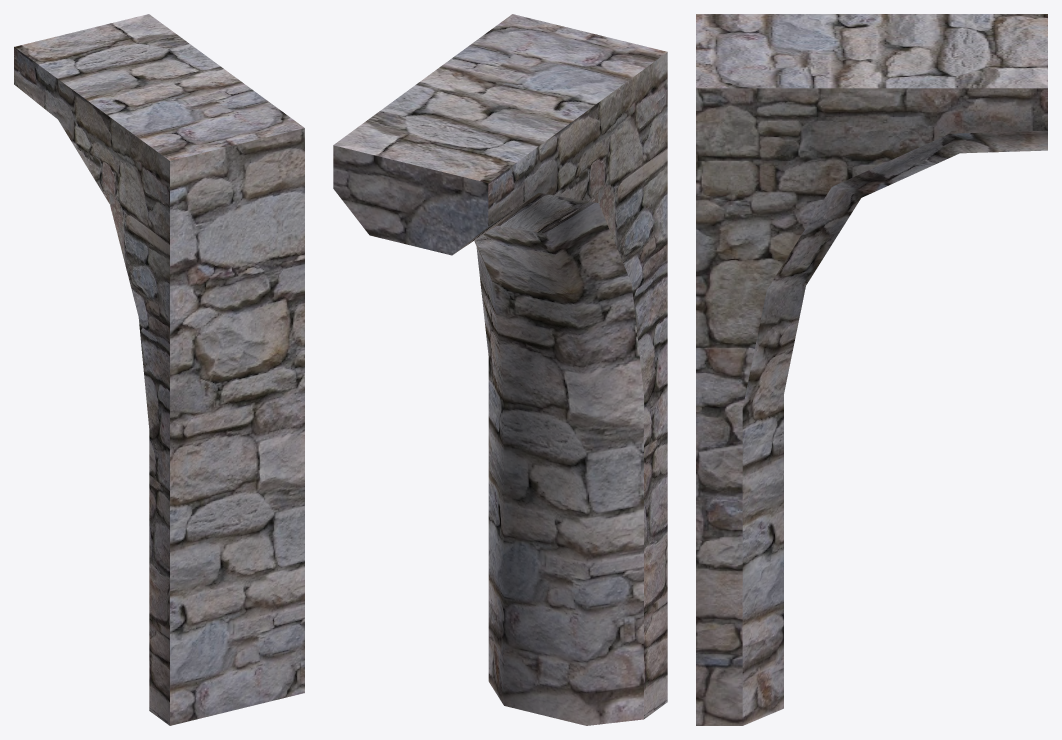
Rendered from hwall_halfdoor.obj.
3 views of the same model, side by side, from view 1: azimuth 30°, elevation 25°; view 2: azimuth 150°, elevation 25°; view 3: azimuth 270°, elevation 25° (orthographic). The views are drawn at different scales.
Size of the model in its own units: 0.5 by 2 by 1.
